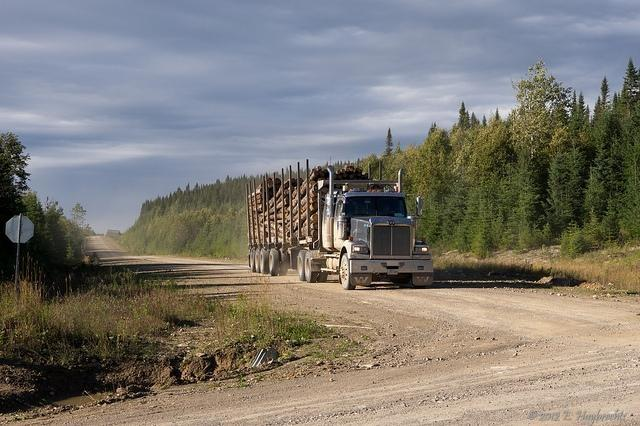truck: (247, 162, 435, 290)
